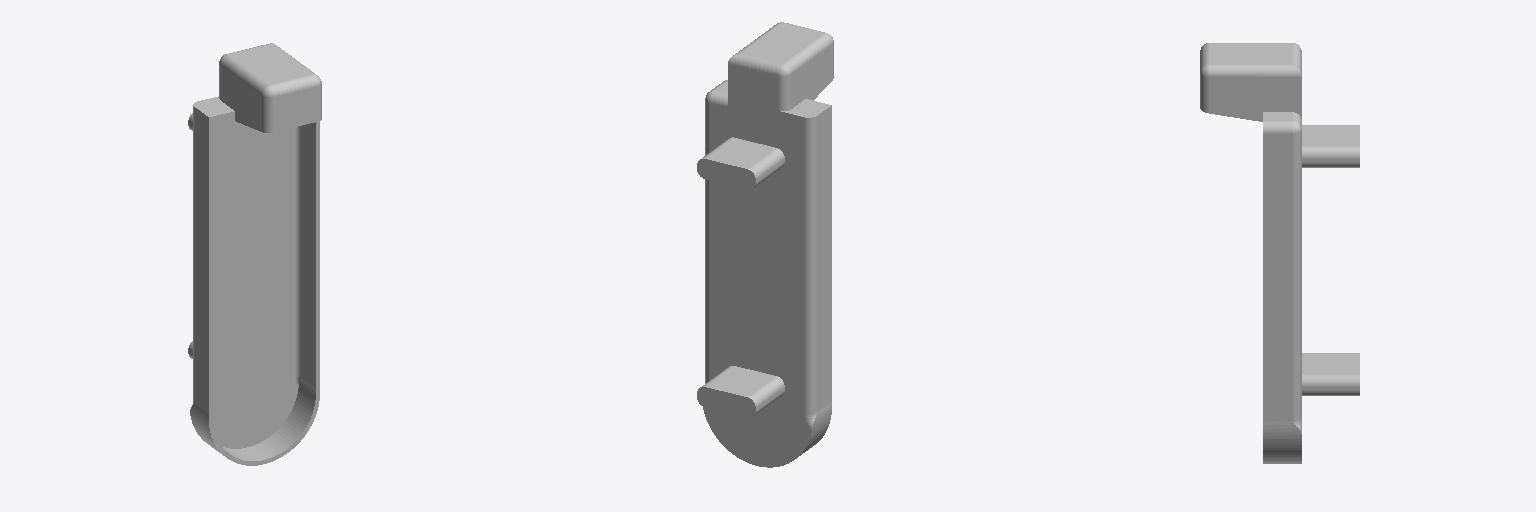
The model's file is basket_small.obj.
3 views of the same model, side by side, from view 1: azimuth 30°, elevation 25°; view 2: azimuth 150°, elevation 25°; view 3: azimuth 270°, elevation 25° (orthographic).
Visible parts, largest first — view 1: mesh54, mesh26, mesh44, mesh51, mesh55, mesh45, mesh10, mesh15, mesh3, mesh8, mesh29, mesh27 (+1 smaller); view 2: mesh72, mesh26, mesh29, mesh10, mesh15, mesh22, mesh80, mesh82, mesh83, mesh74, mesh8, mesh12 (+1 smaller); view 3: mesh21, mesh16, mesh22, mesh10, mesh27, mesh80, mesh82, mesh11, mesh75, mesh89.
Boxes of the visible parts, x1,y1,x2,y2 form: mesh54: [213, 116, 298, 448]; mesh26: [195, 108, 208, 412]; mesh44: [301, 122, 315, 387]; mesh51: [209, 111, 319, 465]; mesh55: [223, 379, 315, 460]; mesh45: [294, 126, 300, 376]; mesh10: [229, 44, 311, 84]; mesh15: [221, 66, 261, 131]; mesh3: [275, 87, 316, 131]; mesh8: [221, 55, 269, 94]; mesh29: [193, 106, 194, 402]; mesh27: [190, 404, 223, 455]; mesh72: [703, 64, 811, 467]; mesh26: [817, 105, 831, 411]; mesh29: [804, 116, 816, 413]; mesh10: [742, 23, 823, 62]; mesh15: [791, 45, 831, 108]; mesh22: [705, 100, 709, 383]; mesh80: [706, 138, 775, 168]; mesh82: [706, 366, 775, 396]; mesh83: [697, 387, 755, 417]; mesh74: [697, 159, 755, 189]; mesh8: [783, 33, 831, 73]; mesh12: [728, 53, 782, 75]; mesh21: [1263, 134, 1291, 420]; mesh16: [1210, 77, 1301, 121]; mesh22: [1292, 130, 1301, 420]; mesh10: [1210, 44, 1291, 63]; mesh27: [1263, 422, 1301, 463]; mesh80: [1302, 126, 1359, 145]; mesh82: [1302, 354, 1359, 373]; mesh11: [1210, 64, 1301, 76]; mesh75: [1302, 146, 1359, 158]; mesh89: [1302, 374, 1359, 386].
Bounding box in the file's own units: 0.4972 × 1.73 × 0.6187.